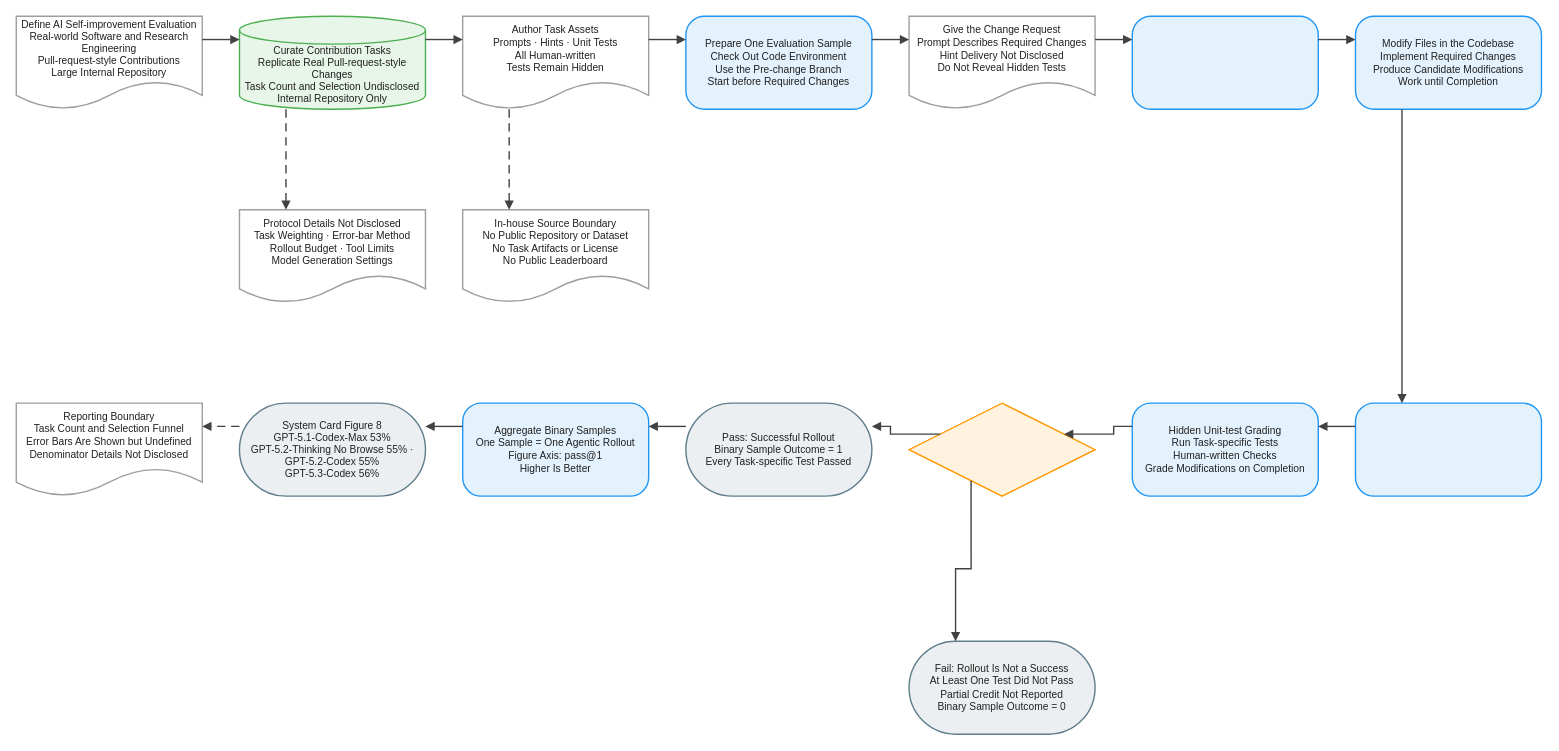
The diagram is 1559 pixels wide and 751 high, and some of its shapes have lost their labels. The box of each missing label's shape, as (x1, y1, x2, y2) in pixels:
All Hidden Tests Pass?: (908, 402, 1095, 496)
Complete the Rollout Freeze Final Modifications Hand Candidate Patch to Grader: (1354, 402, 1542, 496)
Run One Agentic Rollout Inspect the Codebase Use Command-line Tools Use Python: (1131, 15, 1319, 110)
